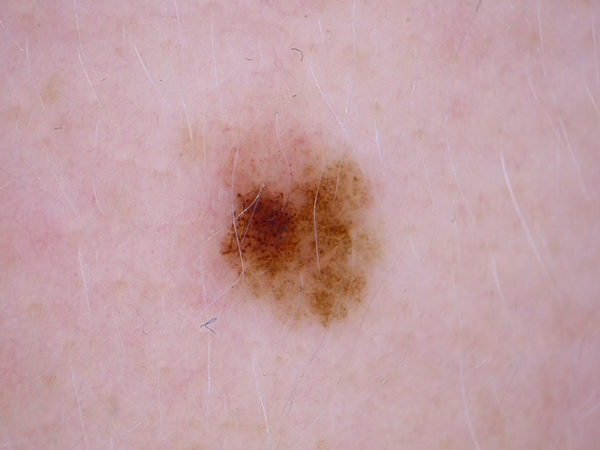Detected Lesion: (216, 155, 377, 327)
